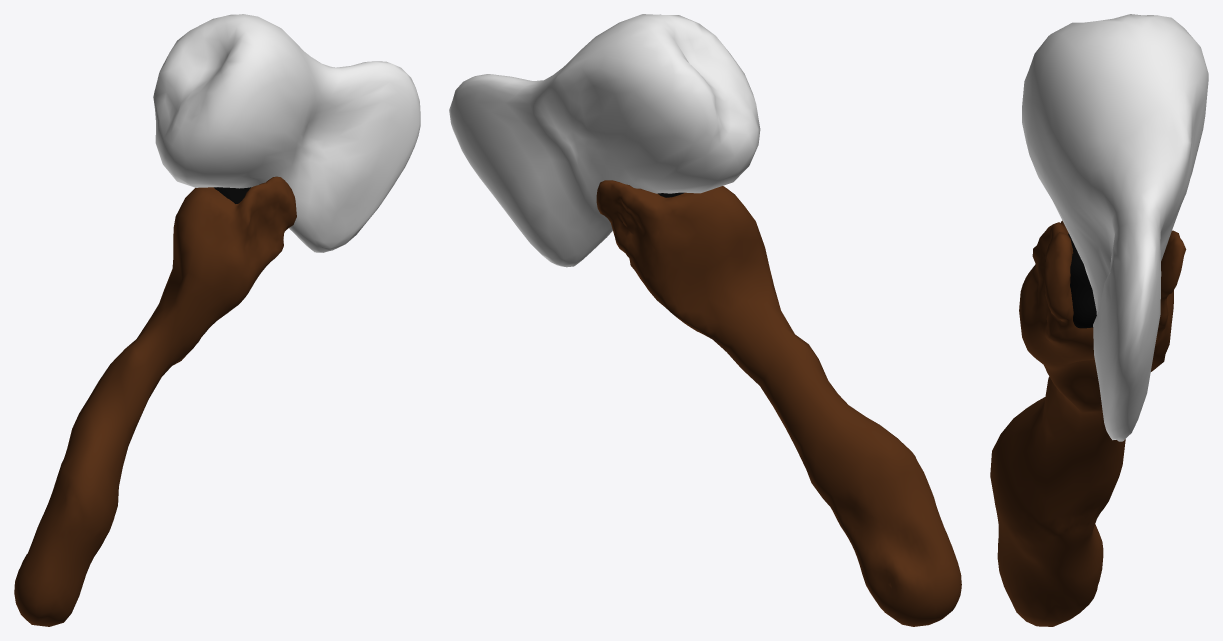
The model's file is Multisuvivortool.fbx.
3 views of the same model, side by side, from view 1: azimuth 30°, elevation 25°; view 2: azimuth 150°, elevation 25°; view 3: azimuth 270°, elevation 25° (orthographic). The views are drawn at different scales.
Visible parts, largest first — view 1: Sphere, Cube; view 2: Sphere, Cube; view 3: Sphere, Cube, Sphere.001.
Boxes of the visible parts, x1,y1,x2,y2 form: Sphere: (153,14,420,252); Cube: (14,176,296,626); Sphere: (449,14,760,267); Cube: (596,180,961,626); Sphere: (1022,14,1208,441); Cube: (990,220,1186,626); Sphere.001: (1068,233,1096,328).
Size of the model in its own units: 570 by 664 by 174.
